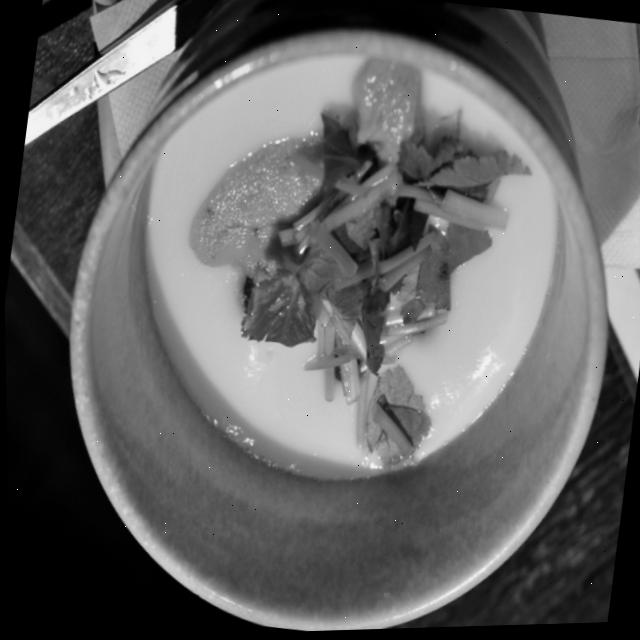鸡蛋料理: (60, 0, 621, 625)
